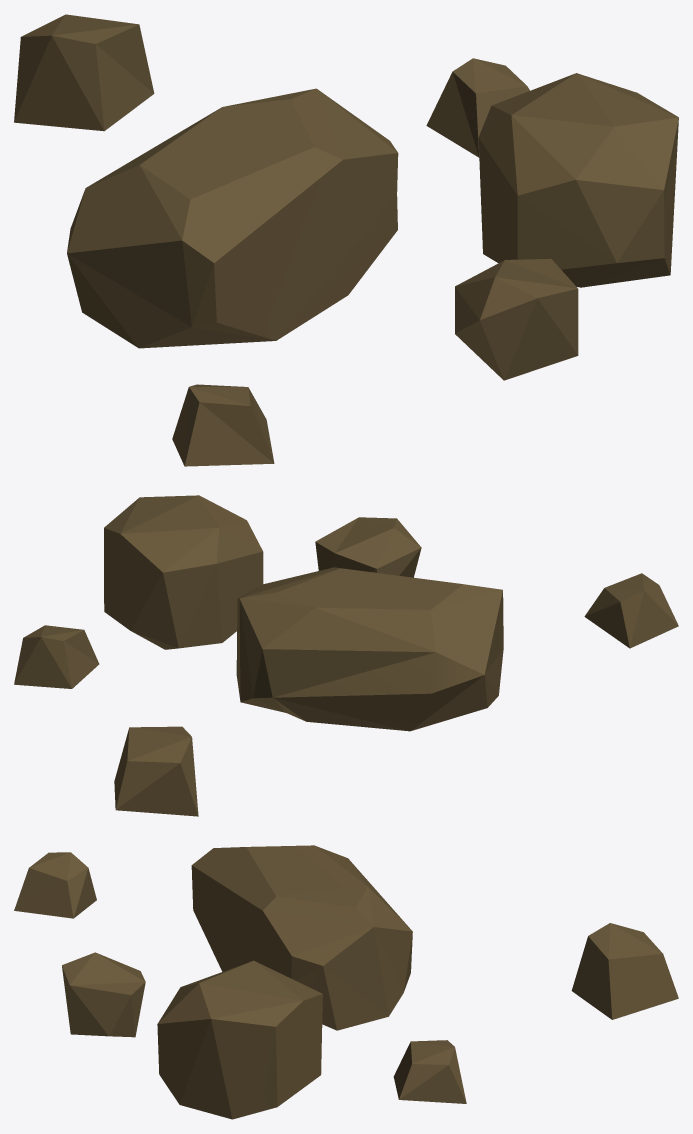
The model's file is elven_SM_Env_Pebbles_01.gltf.
3 renders of one model, top to bottom at view 1: azimuth 30°, elevation 25°; view 2: azimuth 150°, elevation 25°; view 3: azimuth 270°, elevation 25°, orthographic. The views are drawn at different scales.
Visible parts, largest first — view 1: SM_Env_Pebbles_01; view 2: SM_Env_Pebbles_01; view 3: SM_Env_Pebbles_01.
Part boxes in pixels (x1,y1,x2,y2): SM_Env_Pebbles_01: [14, 14, 678, 466]; SM_Env_Pebbles_01: [14, 495, 678, 816]; SM_Env_Pebbles_01: [14, 845, 678, 1119].
Size of the model in its own units: 1.23 by 0.3254 by 1.59.
1 material, 1 textured.
